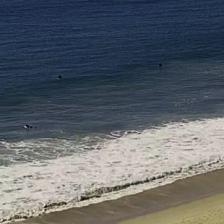surfer: (26, 124, 34, 129), (59, 74, 62, 78), (159, 63, 162, 66)
